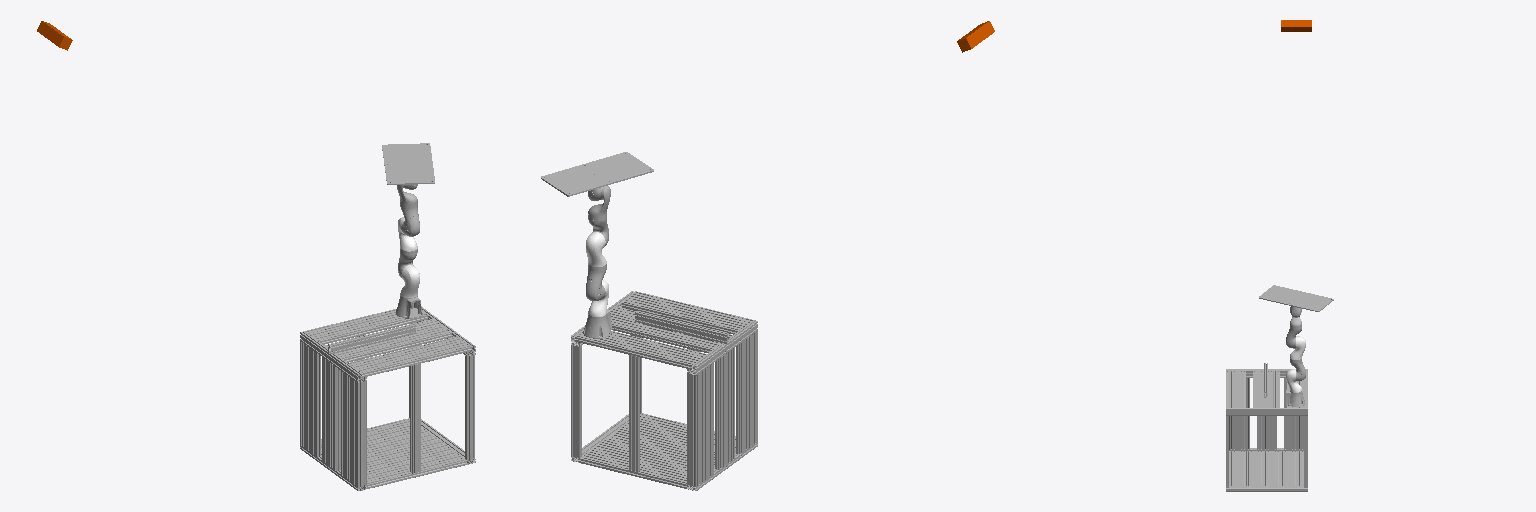
URDF robot description (DORO_table):
<?xml version="1.0" encoding="utf-8"?>
<!-- This URDF was automatically created by SolidWorks to URDF Exporter! Originally created by [author] ([email redacted]) 
     Commit Version: 1.6.0-1-g15f4949  Build Version: 1.6.7594.29634
     For more information, please see http://wiki.ros.org/sw_urdf_exporter -->
<robot
  name="DORO_table">
  <link name="world" />
  <joint name="world_joint" type="prismatic">
    <parent link="world"/>
    <child link="shelf"/>
    <limit effort="100.0" lower="-5.0" upper="5" velocity="0.5"/>
  </joint>

  <link
    name="shelf">
    <inertial>
      <origin
        xyz="0 0 0.1"
        rpy="0 0 0" />
      <mass
        value="15.9226602269834" />
      <inertia
        ixx="0.348279163425934"
        ixy="9.78249699407874E-06"
        ixz="-4.81788976036679E-08"
        iyy="0.472546975415564"
        iyz="9.53977303601999E-08"
        izz="0.580731685277469" />
    </inertial>
    <visual>
      <origin
        xyz="0 0 0.1"
        rpy="0 0 0" />
      <geometry>
        <mesh
          filename="package://DORO_table/meshes/shelf.STL" />
      </geometry>
      <material
        name="">
        <color
          rgba="0.752941176470588 0.752941176470588 0.752941176470588 1" />
      </material>
    </visual>
    <collision>
      <origin
        xyz="0 0 0.1"
        rpy="0 0 0" />
      <geometry>
        <mesh
          filename="package://DORO_table/meshes/shelf.STL" />
      </geometry>
    </collision>
  </link>

  <joint name="shelf_joint" type="fixed">
    <origin xyz="0.3 0.19 0.89" rpy="0 0 0" />
    <parent link="shelf"/>
    <child link="base_link"/>
  </joint>

   <link
    name="base_link">
    <inertial>
      <origin xyz="0 0 0" rpy="0 0 0" />
      <mass value="3.06" />
      <inertia ixx="0.3" ixy="0.0" ixz="0.0" iyy="0.3" iyz="0.0" izz="0.3" />
    </inertial>
    <visual>
      <origin
        xyz="0 0 0"
        rpy="0 0 0" />
      <geometry>
        <mesh
          filename="package://DOBO1/meshes/base_link.STL" />
      </geometry>
      <material
        name="">
        <color
          rgba="0.752941176470588 0.752941176470588 0.752941176470588 1" />
      </material>
    </visual>
    <collision>
      <origin
        xyz="0 0 0"
        rpy="0 0 0" />
      <geometry>
        <mesh
          filename="package://DOBO1/meshes/base_link.STL" />
      </geometry>
    </collision>
  </link>
  <link
    name="link_1">
    <inertial>
      <origin xyz="0 0 0" rpy="0 0 0" />
      <mass value="3.06" />
      <inertia ixx="0.3" ixy="0.0" ixz="0.0" iyy="0.3" iyz="0.0" izz="0.3" />
    </inertial>
    <visual>
      <origin
        xyz="0 0 0"
        rpy="0 0 0" />
      <geometry>
        <mesh
          filename="package://DOBO1/meshes/link_1.STL" />
      </geometry>
      <material
        name="">
        <color
          rgba="1 1 1 1" />
      </material>
    </visual>
    <collision>
      <origin
        xyz="0 0 0"
        rpy="0 0 0" />
      <geometry>
        <mesh
          filename="package://DOBO1/meshes/link_1.STL" />
      </geometry>
    </collision>
  </link>
  <joint
    name="joint_1"
    type="revolute">
    <origin
      xyz="0 -0.0025539 0.13584"
      rpy="0 0 0" />
    <parent
      link="base_link" />
    <child
      link="link_1" />
    <axis
      xyz="0 0 -1" />
    <limit
      lower="-0.785"
      upper="3.926"
      effort="87"
      velocity="2.1750" />
    <dynamics damping="1.0"/> 
  </joint>
  <link
    name="link_2">
    <inertial>
      <origin xyz="0 0 0" rpy="0 0 0" />
      <mass value="3.06" />
      <inertia ixx="0.3" ixy="0.0" ixz="0.0" iyy="0.3" iyz="0.0" izz="0.3" />
    </inertial>
    <visual>
      <origin
        xyz="0 0 0"
        rpy="0 0 0" />
      <geometry>
        <mesh
          filename="package://DOBO1/meshes/link_2.STL" />
      </geometry>
      <material
        name="">
        <color
          rgba="0.752941176470588 0.752941176470588 0.752941176470588 1" />
      </material>
    </visual>
    <collision>
      <origin
        xyz="0 0 0"
        rpy="0 0 0" />
      <geometry>
        <mesh
          filename="package://DOBO1/meshes/link_2.STL" />
      </geometry>
    </collision>
  </link>
  <joint
    name="joint_2"
    type="revolute">
    <origin
      xyz="0 0 0.15026"
      rpy="-1.5708 0 0" />
    <parent
      link="link_1" />
    <child
      link="link_2" />
    <axis
      xyz="0 0 -1" />
    <limit
      lower="-0.785"
      upper="3.926"
      effort="87"
      velocity="2.1750" />
    <dynamics damping="1.0"/>
  </joint>
  <link
    name="link_3">
    <inertial>
      <origin xyz="0 0 0" rpy="0 0 0" />
      <mass value="3.06" />
      <inertia ixx="0.3" ixy="0.0" ixz="0.0" iyy="0.3" iyz="0.0" izz="0.3" />
    </inertial>
    <visual>
      <origin
        xyz="0 0 0"
        rpy="0 0 0" />
      <geometry>
        <mesh
          filename="package://DOBO1/meshes/link_3.STL" />
      </geometry>
      <material
        name="">
        <color
          rgba="1 1 1 1" />
      </material>
    </visual>
    <collision>
      <origin
        xyz="0 0 0"
        rpy="0 0 0" />
      <geometry>
        <mesh
          filename="package://DOBO1/meshes/link_3.STL" />
      </geometry>
    </collision>
  </link>
  <joint
    name="joint_3"
    type="revolute">
    <origin
      xyz="0 -0.169 -0.0003799"
      rpy="1.5708 0 0" />
    <parent
      link="link_2" />
    <child
      link="link_3" />
    <axis
      xyz="0 0 -1" />
    <limit
      lower="-0.785"
      upper="3.926"
      effort="87"
      velocity="2.1750" />
    <dynamics damping="1.0"/>
  </joint>
  <link
    name="link_4">
    <inertial>
      <origin xyz="0 0 0" rpy="0 0 0" />
      <mass value="3.06" />
      <inertia ixx="0.3" ixy="0.0" ixz="0.0" iyy="0.3" iyz="0.0" izz="0.3" />
    </inertial>
    <visual>
      <origin
        xyz="0 0 0"
        rpy="0 0 0" />
      <geometry>
        <mesh
          filename="package://DOBO1/meshes/link_4.STL" />
      </geometry>
      <material
        name="">
        <color
          rgba="0.752941176470588 0.752941176470588 0.752941176470588 1" />
      </material>
    </visual>
    <collision>
      <origin
        xyz="0 0 0"
        rpy="0 0 0" />
      <geometry>
        <mesh
          filename="package://DOBO1/meshes/link_4.STL" />
      </geometry>
    </collision>
  </link>
  <joint
    name="joint_4"
    type="revolute">
    <origin
      xyz="-2.1962E-05 0 0.1506"
      rpy="1.5708 0 0" />
    <parent
      link="link_3" />
    <child
      link="link_4" />
    <axis
      xyz="0 0 -1" />
    <limit
      lower="-0.785"
      upper="3.926"
      effort="87"
      velocity="2.1750" />
    <dynamics damping="1.0"/>
  </joint>
  <link
    name="link_5">
    <inertial>
      <origin xyz="0 0 0" rpy="0 0 0" />
      <mass value="3.06" />
      <inertia ixx="0.3" ixy="0.0" ixz="0.0" iyy="0.3" iyz="0.0" izz="0.3" />
    </inertial>
    <visual>
      <origin
        xyz="0 0 0"
        rpy="0 0 0" />
      <geometry>
        <mesh
          filename="package://DOBO1/meshes/link_5.STL" />
      </geometry>
      <material
        name="">
        <color
          rgba="0.752941176470588 0.752941176470588 0.752941176470588 1" />
      </material>
    </visual>
    <collision>
      <origin
        xyz="0 0 0"
        rpy="0 0 0" />
      <geometry>
        <mesh
          filename="package://DOBO1/meshes/link_5.STL" />
      </geometry>
    </collision>
  </link>
  <joint
    name="joint_5"
    type="revolute">
    <origin
      xyz="2.1962E-05 0.1736 -0.00037968"
      rpy="-1.5708 0 0" />
    <parent
      link="link_4" />
    <child
      link="link_5" />
    <axis
      xyz="0 0 -1" />
    <limit
      lower="-0.785"
      upper="3.926"
      effort="87"
      velocity="2.1750" />
    <dynamics damping="1.0"/>
  </joint>
  <link
    name="link_6">
    <inertial>
      <origin xyz="0 0 0" rpy="0 0 0" />
      <mass value="3.06" />
      <inertia ixx="0.3" ixy="0.0" ixz="0.0" iyy="0.3" iyz="0.0" izz="0.3" />
    </inertial>
    <visual>
      <origin
        xyz="0 0 0"
        rpy="0 0 0" />
      <geometry>
        <mesh
          filename="package://DOBO1/meshes/link_6.STL" />
      </geometry>
      <material
        name="">
        <color
          rgba="0.752941176470588 0.752941176470588 0.752941176470588 1" />
      </material>
    </visual>
    <collision>
      <origin
        xyz="0 0 0"
        rpy="0 0 0" />
      <geometry>
        <mesh
          filename="package://DOBO1/meshes/link_6.STL" />
      </geometry>
    </collision>
  </link>
  <joint
    name="joint_6"
    type="revolute">
    <origin
      xyz="0 0 0.14599"
      rpy="1.5708 0 1.5708" />
    <parent
      link="link_5" />
    <child
      link="link_6" />
    <axis
      xyz="0 0 -1" />
    <limit
      lower="-0.785"
      upper="3.926"
      effort="87"
      velocity="2.1750" />
    <dynamics damping="1.0"/>
  </joint>
  <link
    name="link_7">
    <inertial>
      <origin xyz="0 0 0" rpy="0 0 0" />
      <mass value="3.06" />
      <inertia ixx="0.3" ixy="0.0" ixz="0.0" iyy="0.3" iyz="0.0" izz="0.3" />
    </inertial>
    <visual>
      <origin
        xyz="0 0 0"
        rpy="0 0 0" />
      <geometry>
        <mesh
          filename="package://DOBO1/meshes/link_7.STL" />
      </geometry>
      <material
        name="">
        <color
          rgba="0.752941176470588 0.752941176470588 0.752941176470588 1" />
      </material>
    </visual>
    <collision>
      <origin
        xyz="0 0 0"
        rpy="0 0 0" />
      <geometry>
        <mesh
          filename="package://DOBO1/meshes/link_7.STL" />
      </geometry>
    </collision>
  </link>
  <joint
    name="joint_7"
    type="revolute">
    <origin
      xyz="0.0013242 0.070964 -0.0012638"
      rpy="1.5708 0.46949 3.1229" />
    <parent
      link="link_6" />
    <child
      link="link_7" />
    <axis
      xyz="0 0 -1" />
    <limit
      lower="-0.785"
      upper="3.926"
      effort="87"
      velocity="2.1750" />
  </joint>

  <joint name="link_7_to_gripper" type="fixed">
    <parent link="link_7"/>
    <child link="gripper"/>
  </joint>

  <link
    name="gripper">
    <inertial>
      <origin
        xyz="0 0 0.03"
        rpy="0 0 0" />
      <mass
        value="1.6154" />
      <inertia
        ixx="0.011286"
        ixy="0"
        ixz="0"
        iyy="0.044568"
        iyz="0"
        izz="0.055851" />
    </inertial>
    <visual>
      <origin
        xyz="0 0 0.03"
        rpy="0 0 0" />
      <geometry>
        <mesh
          filename="package://test_gipper/meshes/gripper.STL" />
      </geometry>
      <material
        name="">
        <color
          rgba="0.75294 0.75294 0.75294 1" />
      </material>
    </visual>
    <collision>
      <origin
        xyz="0 0 0.03"
        rpy="0 0 0" />
      <geometry>
        <mesh
          filename="package://test_gipper/meshes/gripper.STL" />
      </geometry>
    </collision>
  </link>


 



  
<!-- gazebo 상에서 로봇을 움직일 때 필요한 플러그인 -->
  <transmission name="DOBO_tran_1">
    <type>transmission_interface/SimpleTransmission</type>
    <joint name="joint_1">
      <hardwareInterface>hardware_interface/EffortJointInterface</hardwareInterface>
    </joint>
    <actuator name="DOBO_motor_1">
      <hardwareInterface>hardware_interface/EffortJointInterface</hardwareInterface>
      <mechanicalReduction>1</mechanicalReduction>
    </actuator>
   </transmission>
     <transmission name="DOBO_tran_2">
    <type>transmission_interface/SimpleTransmission</type>
    <joint name="joint_2">
      <hardwareInterface>hardware_interface/EffortJointInterface</hardwareInterface>
    </joint>
    <actuator name="DOBO_motor_2">
      <hardwareInterface>hardware_interface/EffortJointInterface</hardwareInterface>
      <mechanicalReduction>1</mechanicalReduction>
    </actuator>
   </transmission>
     <transmission name="DOBO_tran_3">
    <type>transmission_interface/SimpleTransmission</type>
    <joint name="joint_3">
      <hardwareInterface>hardware_interface/EffortJointInterface</hardwareInterface>
    </joint>
    <actuator name="DOBO_motor_3">
      <hardwareInterface>hardware_interface/EffortJointInterface</hardwareInterface>
      <mechanicalReduction>1</mechanicalReduction>
    </actuator>
   </transmission>
     <transmission name="DOBO_tran_4">
    <type>transmission_interface/SimpleTransmission</type>
    <joint name="joint_4">
      <hardwareInterface>hardware_interface/EffortJointInterface</hardwareInterface>
    </joint>
    <actuator name="DOBO_motor_4">
      <hardwareInterface>hardware_interface/EffortJointInterface</hardwareInterface>
      <mechanicalReduction>1</mechanicalReduction>
    </actuator>
   </transmission>
     <transmission name="DOBO_tran_5">
    <type>transmission_interface/SimpleTransmission</type>
    <joint name="joint_5">
      <hardwareInterface>hardware_interface/EffortJointInterface</hardwareInterface>
    </joint>
    <actuator name="DOBO_motor_5">
      <hardwareInterface>hardware_interface/EffortJointInterface</hardwareInterface>
      <mechanicalReduction>1</mechanicalReduction>
    </actuator>
   </transmission>
     <transmission name="DOBO_tran_6">
    <type>transmission_interface/SimpleTransmission</type>
    <joint name="joint_6">
      <hardwareInterface>hardware_interface/EffortJointInterface</hardwareInterface>
    </joint>
    <actuator name="DOBO_motor_6">
      <hardwareInterface>hardware_interface/EffortJointInterface</hardwareInterface>
      <mechanicalReduction>1</mechanicalReduction>
    </actuator>
   </transmission>
     <transmission name="DOBO_tran_7">
    <type>transmission_interface/SimpleTransmission</type>
    <joint name="joint_7">
      <hardwareInterface>hardware_interface/EffortJointInterface</hardwareInterface>
    </joint>
    <actuator name="DOBO_motor_7">
      <hardwareInterface>hardware_interface/EffortJointInterface</hardwareInterface>
      <mechanicalReduction>1</mechanicalReduction>
    </actuator>
   </transmission>

   <gazebo>
    <plugin name="gazebo_ros_control" filename="libgazebo_ros_control.so"/>
  </gazebo>
<!-- gazebo 상에서 로봇을 움직일 때 필요한 플러그인 -->

<gazebo reference="camera_depth_frame">
    <sensor name="camera1" type="depth">
      <always_on>true</always_on>
      <update_rate>20.0</update_rate>
      <camera>
        <horizontal_fov>1.0471975512</horizontal_fov>
        <image>
          <format>R8G8B8</format>
          <width>640</width>
          <height>480</height>
        </image>
        <clip>
          <near>0.05</near>
          <far>8.0</far>
        </clip>
      </camera>
      <plugin filename="libgazebo_ros_openni_kinect.so" name="camera_depth_frame_kinect_controller">
        <baseline>0.1</baseline>
        <alwaysOn>true</alwaysOn>
        <updateRate>10</updateRate>
        <cameraName>camera1</cameraName>
        <imageTopicName>depth/image_raw</imageTopicName>
        <cameraInfoTopicName>depth/camera_info</cameraInfoTopicName>
        <depthImageTopicName>depth/image_raw</depthImageTopicName>
        <depthImageCameraInfoTopicName>depth/camera_info</depthImageCameraInfoTopicName>
        <pointCloudTopicName>depth/points</pointCloudTopicName>
        <frameName>camera_depth_optical_frame</frameName>
        <pointCloudCutoff>0.3</pointCloudCutoff>
        <distortion_k1>0.0</distortion_k1>
        <distortion_k2>0.0</distortion_k2>
        <distortion_k3>0.0</distortion_k3>
        <distortion_t1>0.0</distortion_t1>
        <distortion_t2>0.0</distortion_t2>
        <!--
    <CxPrime>0</CxPrime>
    <Cx>0</Cx>
    <Cy>0</Cy>
    <focalLength>0</focalLength>
    <hackBaseline>0</hackBaseline>
-->
      </plugin>
    </sensor>
  </gazebo>
  <!-- Parameterised in part by the values in kinect_properties.urdf.xacro -->
  <joint name="camera_rgb_joint" type="fixed">
    <origin rpy="0 0.53 0" xyz="-2.5 0 2.5"/>
    <parent link="base_link"/>
    <child link="camera_rgb_frame"/>
  </joint>
  <link name="camera_rgb_frame">
    <inertial>
      <mass value="0.001"/>
      <origin xyz="0 0 0"/>
      <inertia ixx="0.0001" ixy="0.0" ixz="0.0" iyy="0.0001" iyz="0.0" izz="0.0001"/>
    </inertial>
  </link>
  <joint name="camera_rgb_optical_joint" type="fixed">
    <origin rpy="-1.57079632679 0 -1.57079632679" xyz="0 0 0"/>
    <parent link="camera_rgb_frame"/>
    <child link="camera_rgb_optical_frame"/>
  </joint>
  <link name="camera_rgb_optical_frame">
    <inertial>
      <mass value="0.001"/>
      <origin xyz="0 0 0"/>
      <inertia ixx="0.0001" ixy="0.0" ixz="0.0" iyy="0.0001" iyz="0.0" izz="0.0001"/>
    </inertial>
  </link>
  <joint name="camera_joint" type="fixed">
    <origin rpy="0 0 0" xyz="-0.031 -0.0 -0.016"/>
    <parent link="camera_rgb_frame"/>
    <child link="camera_link"/>
  </joint>
  <link name="camera_link">
    <visual>
      <origin rpy="0 0 1.57079632679" xyz="0 0 0"/>
      <geometry> 
<!--         <mesh filename="package://kinect2/meshes/sensors/kinect.dae"/> -->
        <box size="0.27794 0.07271 0.073"/>

      </geometry>
    </visual>
    <collision>
      <origin rpy="0 0 0" xyz="0.0 0.0 0.0"/>
      <geometry>
        <box size="0.07271 0.27794 0.073"/>
      </geometry>
    </collision>
    <inertial>
      <mass value="0.001"/>
      <origin xyz="0 0 0"/>
      <inertia ixx="0.0001" ixy="0.0" ixz="0.0" iyy="0.0001" iyz="0.0" izz="0.0001"/>
    </inertial>
  </link>
  <!-- The fixed joints & links below are usually published by static_transformers launched by the OpenNi launch 
     files. However, for Gazebo simulation we need them, so we add them here.
     (Hence, don't publish them additionally!) -->
  <joint name="camera_depth_joint" type="fixed">
    <origin rpy="0 0 0" xyz="0 0.0 0"/>
    <parent link="camera_rgb_frame"/>
    <child link="camera_depth_frame"/>
  </joint>
  <link name="camera_depth_frame">
    <inertial>
      <mass value="0.001"/>
      <origin xyz="0 0 0"/>
      <inertia ixx="0.0001" ixy="0.0" ixz="0.0" iyy="0.0001" iyz="0.0" izz="0.0001"/>
    </inertial>
  </link>
  <joint name="camera_depth_optical_joint" type="fixed">
    <origin rpy="-1.57079632679 0 -1.57079632679" xyz="0 0 0"/>
    <parent link="camera_depth_frame"/>
    <child link="camera_depth_optical_frame"/>
  </joint>
  <link name="camera_depth_optical_frame">
    <inertial>
      <mass value="0.001"/>
      <origin xyz="0 0 0"/>
      <inertia ixx="0.0001" ixy="0.0" ixz="0.0" iyy="0.0001" iyz="0.0" izz="0.0001"/>
    </inertial>
  </link>






</robot>

--- Render facts (derived) ---
The picture shows the robot from 3 angles, left to right: view 1: azimuth 30°, elevation 25°; view 2: azimuth 150°, elevation 25°; view 3: azimuth 270°, elevation 25°; orthographic projection.
Model DORO_table with 16 links and 15 joints (7 revolute, 1 prismatic, 7 fixed), rooted at world, posed every joint at zero.
Visible links, largest first — view 1: shelf, gripper; view 2: shelf, gripper, link_2, base_link, link_3, camera_link; view 3: shelf, gripper.
Boxes of the visible links, <box> form: shelf: <box>300,306,475,490</box>; gripper: <box>382,143,434,184</box>; shelf: <box>571,291,757,490</box>; gripper: <box>541,152,653,196</box>; link_2: <box>586,264,606,300</box>; base_link: <box>583,309,611,338</box>; link_3: <box>586,232,606,266</box>; camera_link: <box>957,21,994,52</box>; shelf: <box>1226,363,1307,491</box>; gripper: <box>1259,285,1333,311</box>.
Bounding box of the posed robot: 2.85 × 0.952 × 3.34 m (x, y, z).
Meshes: 10 distinct files referenced, 10 mesh visuals loaded (10 binary STL).
